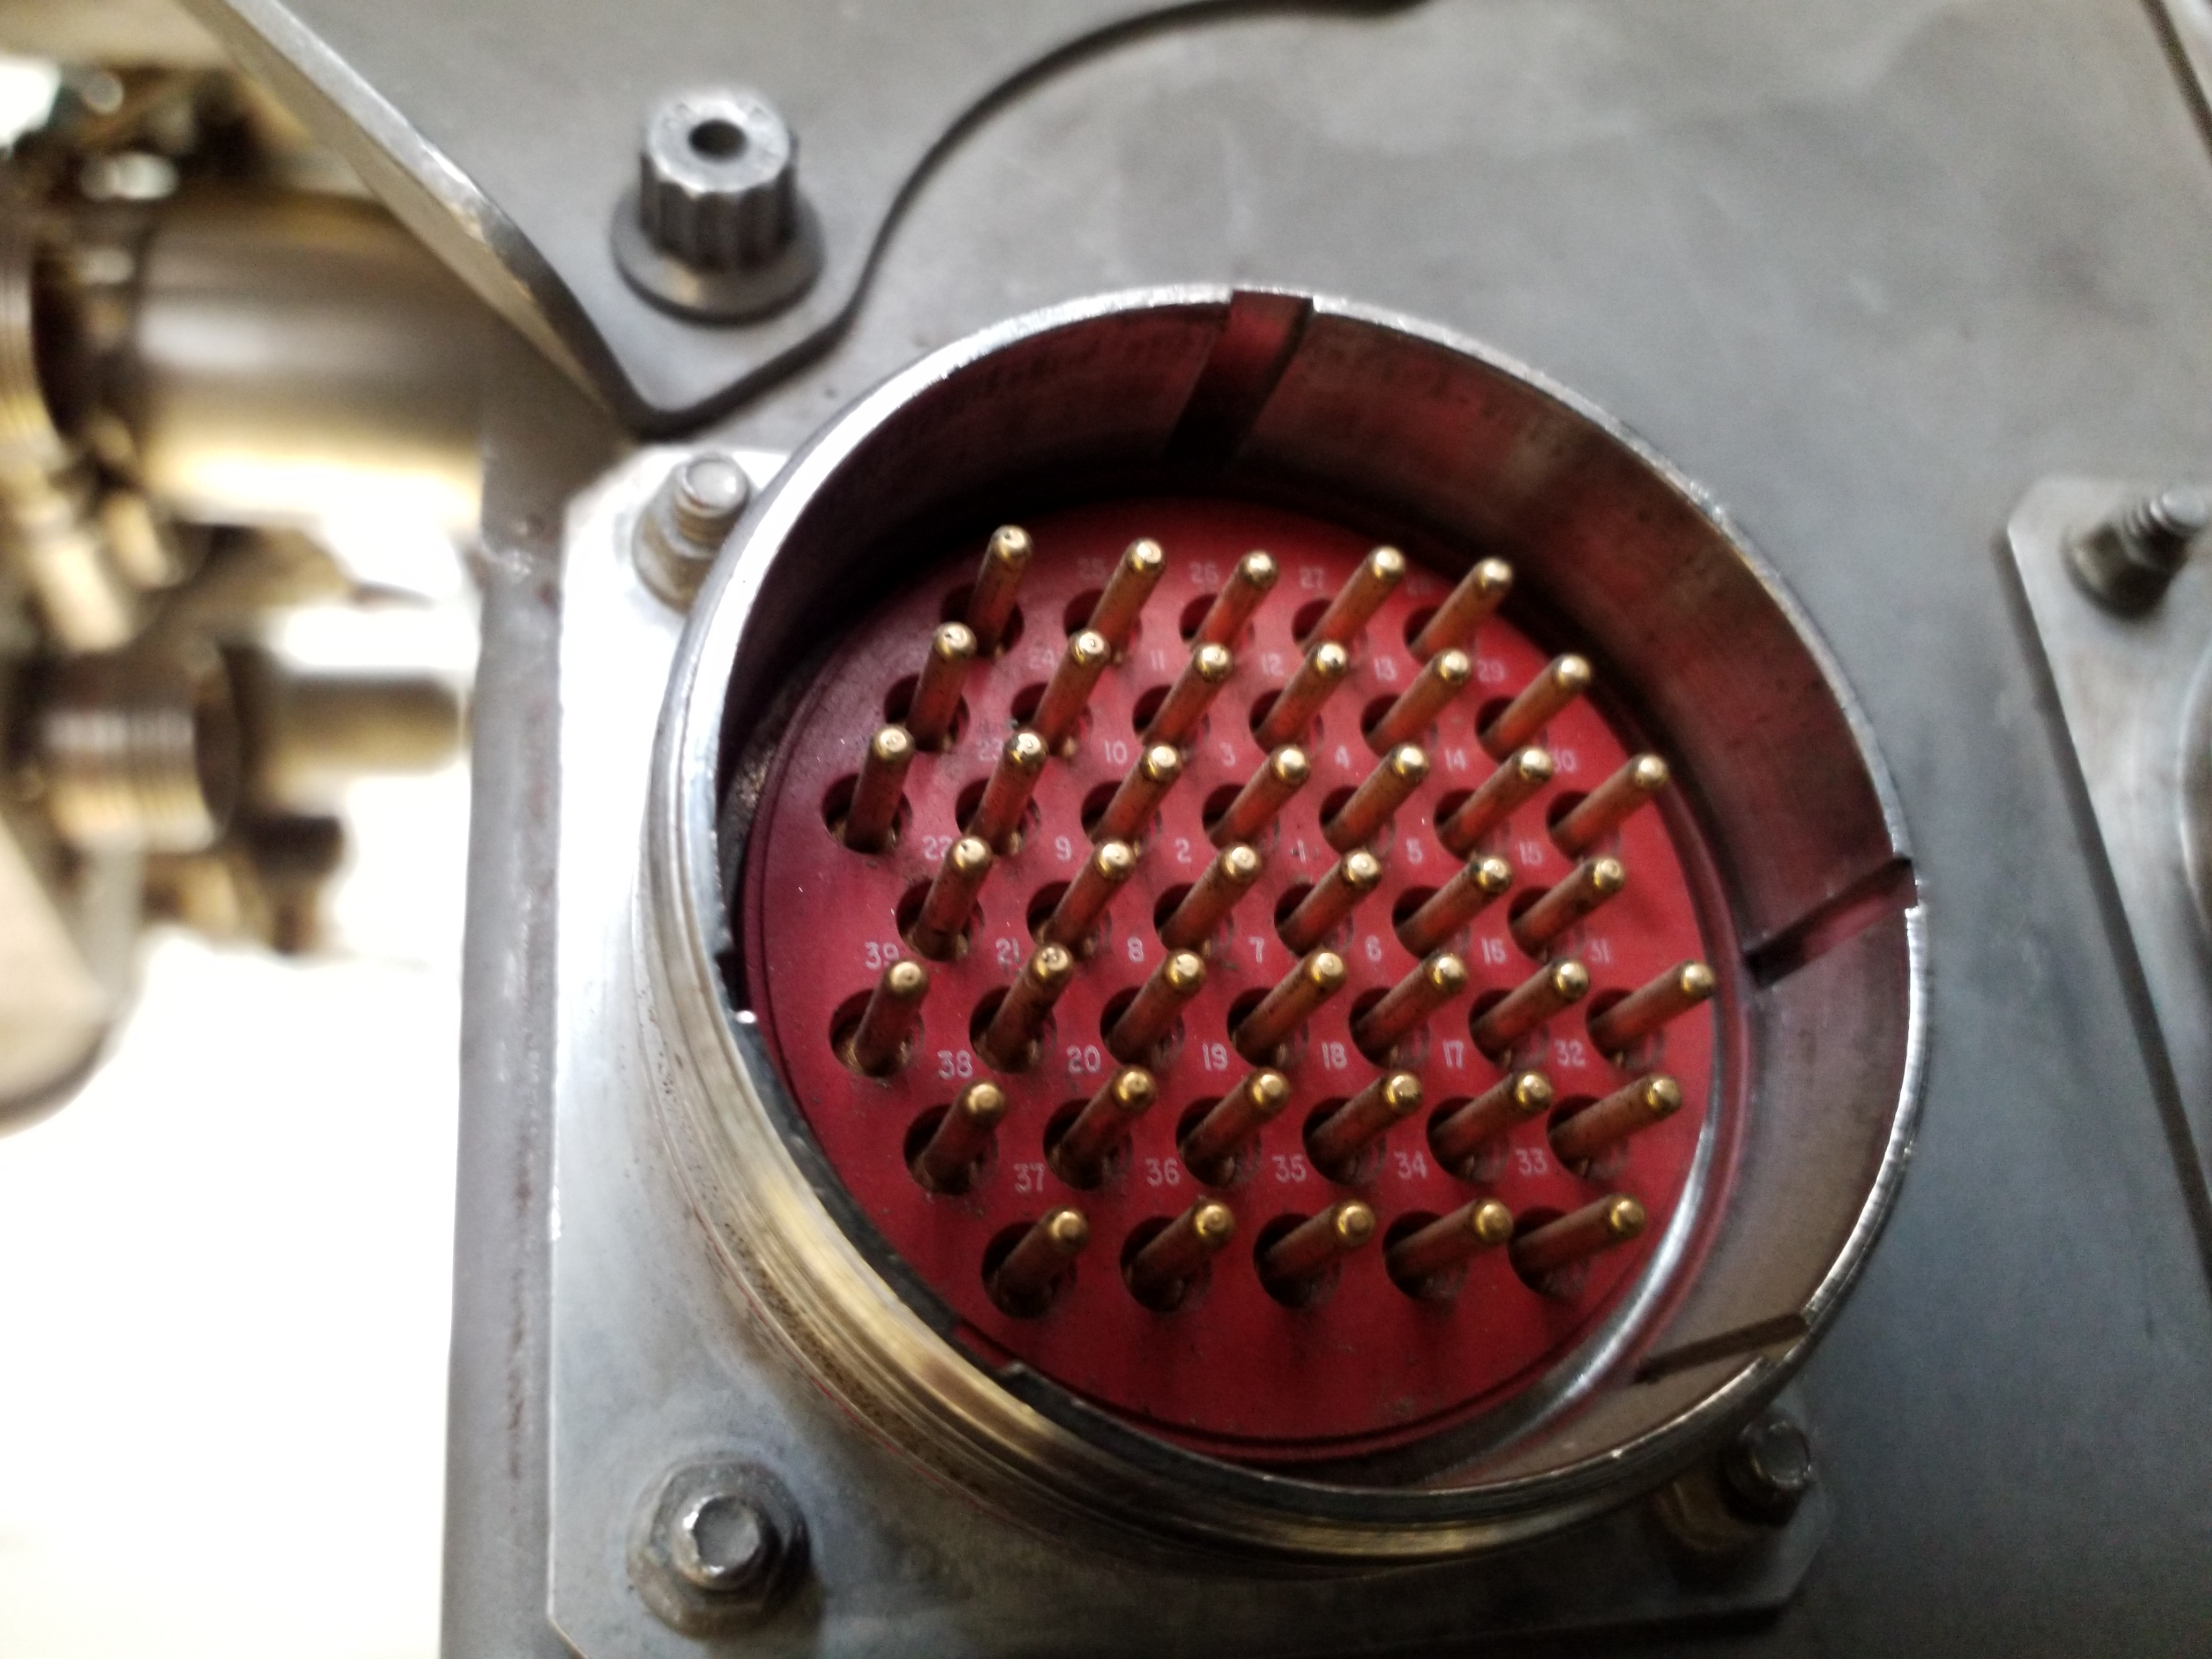outlet: (660, 265, 1942, 1527)
